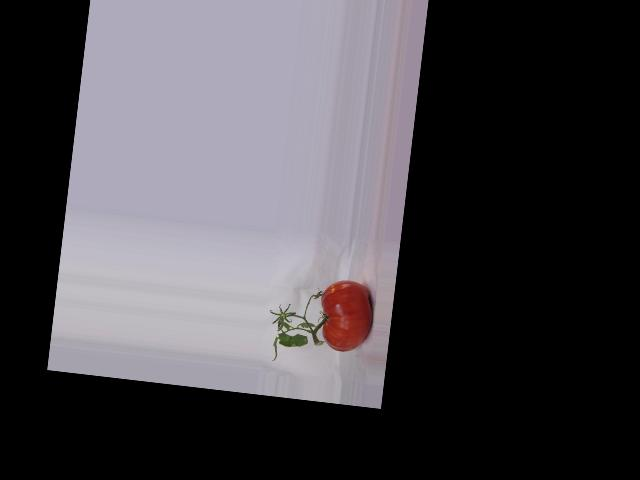tomato: (315, 277, 376, 354)
